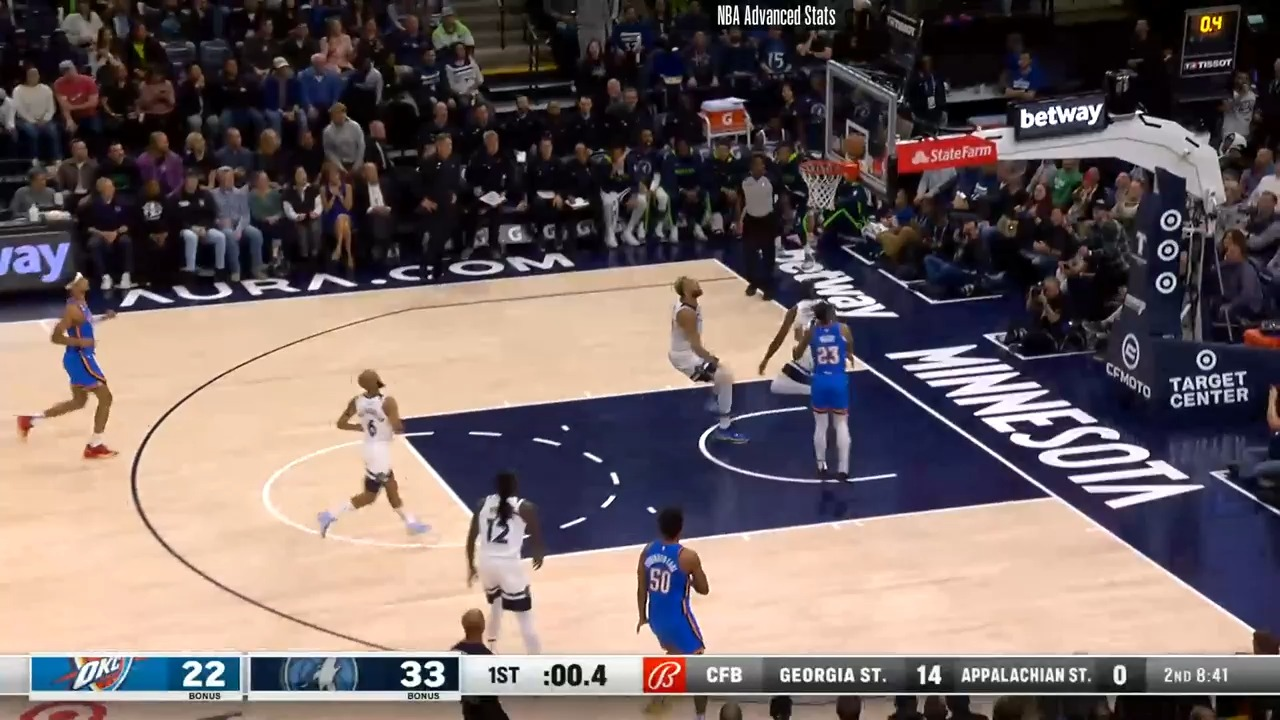net: (794, 152, 862, 212)
player: (319, 367, 438, 545), (15, 273, 123, 464), (778, 296, 867, 485), (460, 467, 544, 654), (659, 277, 743, 448), (634, 503, 721, 655), (755, 280, 830, 405)
referee: (438, 600, 522, 720), (726, 154, 782, 304)
